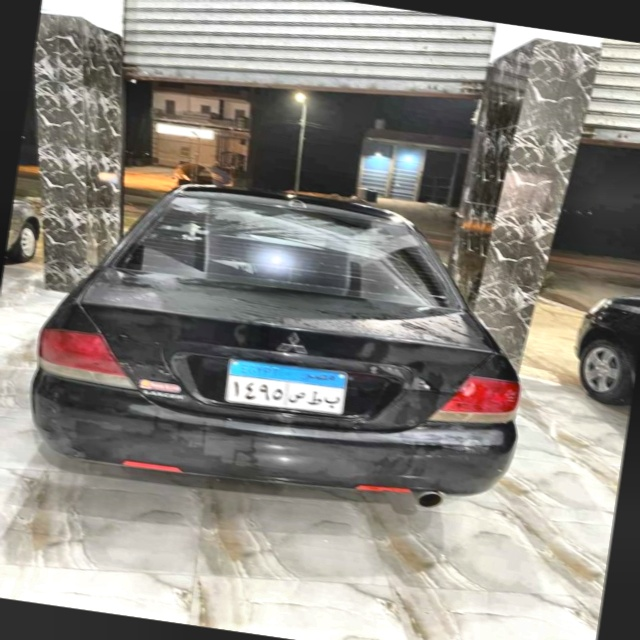License Plate: (223, 355, 350, 420)
